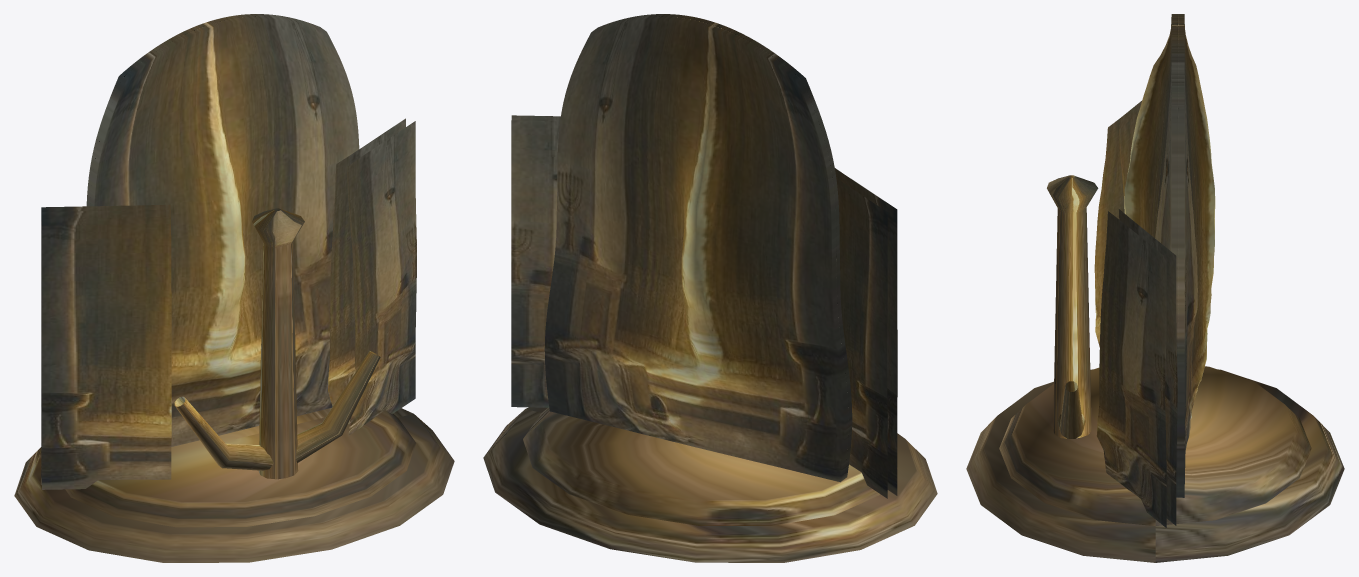
Rendered from anchor-of-the-soul-23.glb.
3 renders of one model, left to right at view 1: azimuth 30°, elevation 25°; view 2: azimuth 150°, elevation 25°; view 3: azimuth 270°, elevation 25°, orthographic. The views are drawn at different scales.
Parts seen in each view (by area): view 1: PaintingSculptureMonument; view 2: PaintingSculptureMonument; view 3: PaintingSculptureMonument.
Part boxes in pixels (bbox=[...]): PaintingSculptureMonument: bbox=[14, 14, 454, 562]; PaintingSculptureMonument: bbox=[483, 14, 937, 562]; PaintingSculptureMonument: bbox=[966, 14, 1344, 562].
Bounding box in the file's own units: 2.76 × 2.99 × 2.35.
1 material, 1 textured.
